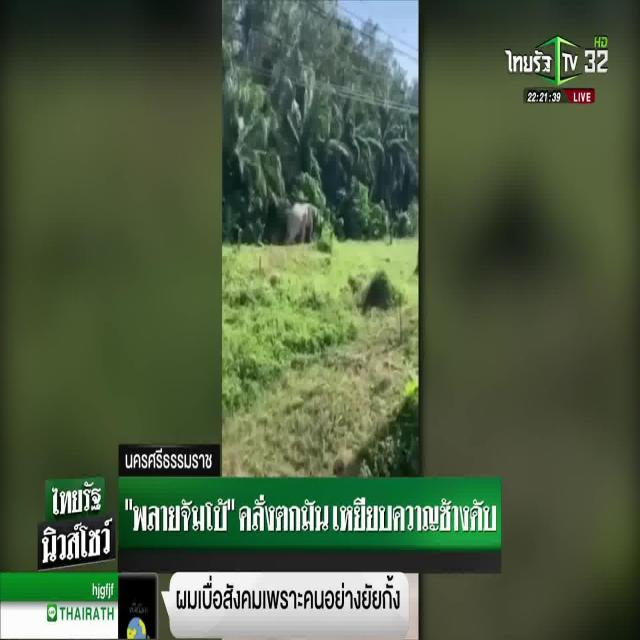Elephant: (282, 188, 320, 244)
